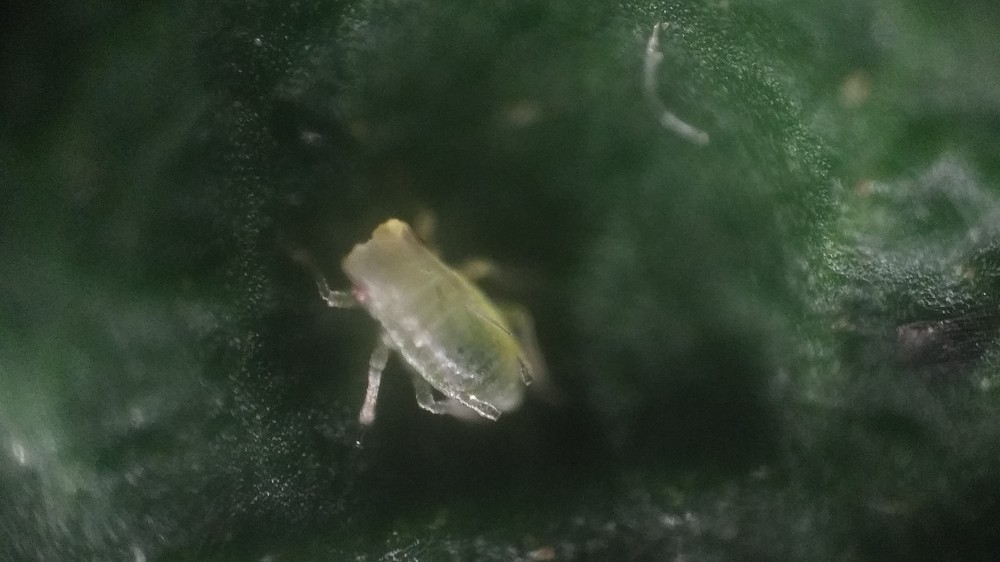Pulgon: (262, 184, 600, 456)
